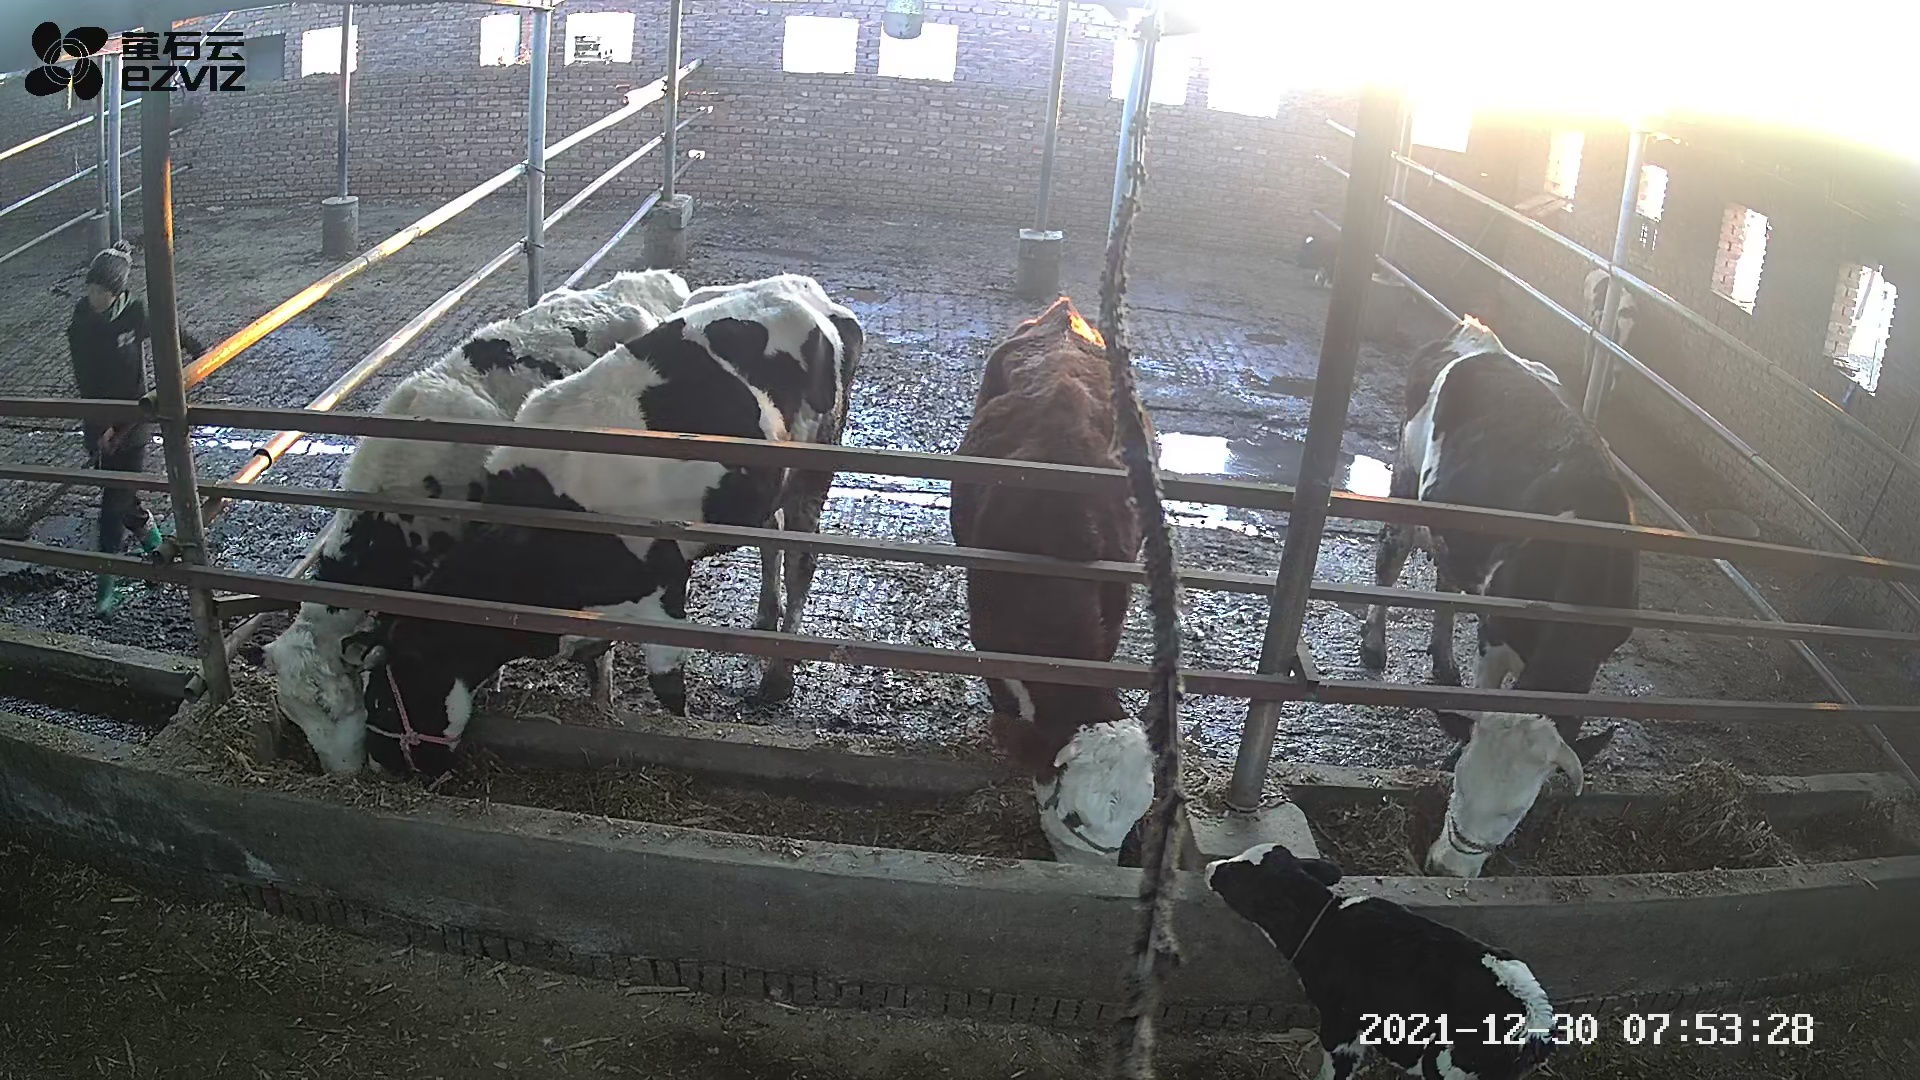cow: (357, 273, 864, 783), (236, 266, 688, 785), (1360, 310, 1639, 878), (948, 298, 1162, 866)
